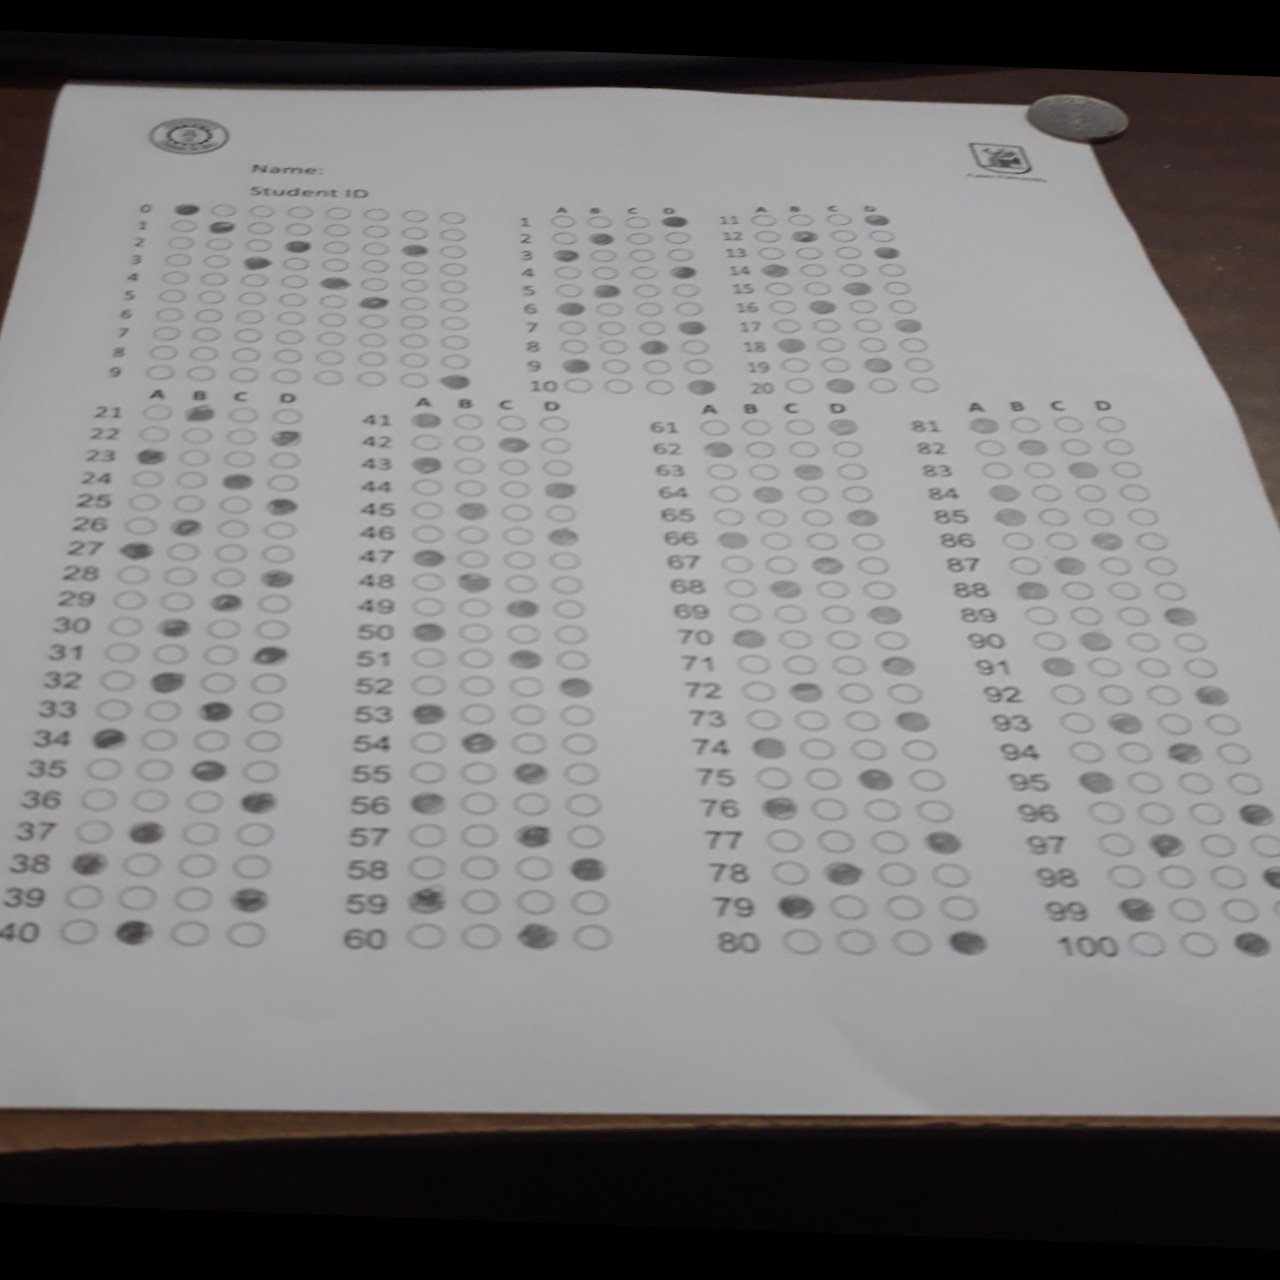not-c: (1166, 894, 1212, 925), (1126, 930, 1165, 959), (1180, 930, 1218, 959), (765, 826, 804, 855), (915, 797, 954, 825), (908, 765, 947, 794), (850, 734, 888, 762), (745, 702, 787, 728), (837, 927, 874, 955), (785, 927, 823, 955), (839, 893, 877, 921), (887, 892, 925, 920), (881, 860, 919, 888), (772, 857, 810, 885), (817, 826, 855, 855), (862, 794, 899, 822), (756, 763, 794, 791), (804, 764, 842, 792), (798, 733, 836, 761), (898, 736, 938, 762), (789, 706, 829, 731), (740, 678, 779, 703), (409, 822, 449, 847), (517, 856, 557, 881), (515, 888, 554, 914), (571, 888, 611, 914), (572, 922, 612, 948), (70, 883, 110, 908), (233, 855, 273, 880), (236, 822, 275, 847), (80, 787, 120, 812), (141, 726, 181, 751), (91, 694, 131, 720), (111, 561, 151, 587), (940, 896, 978, 922), (933, 862, 971, 888), (892, 930, 930, 956), (871, 828, 908, 855), (812, 796, 850, 823), (459, 823, 501, 847), (459, 922, 501, 947), (241, 728, 282, 753), (248, 670, 290, 695), (406, 922, 444, 948), (87, 756, 125, 782), (195, 727, 233, 753), (105, 612, 144, 638), (156, 588, 195, 614), (254, 590, 293, 615), (845, 707, 885, 731), (835, 680, 874, 704), (884, 680, 924, 704), (513, 791, 553, 816), (226, 922, 266, 947), (61, 919, 101, 944), (178, 855, 218, 879), (179, 818, 219, 843), (240, 758, 280, 783), (244, 699, 284, 723), (254, 618, 294, 642), (209, 564, 248, 588), (161, 561, 200, 586), (567, 823, 606, 847), (459, 856, 498, 880), (459, 888, 498, 913), (75, 819, 114, 844), (185, 790, 224, 815), (130, 789, 169, 813), (135, 757, 173, 782), (97, 667, 136, 692), (101, 639, 139, 663), (152, 642, 191, 667), (1187, 799, 1223, 826), (1211, 863, 1247, 888), (1110, 863, 1146, 888), (458, 790, 498, 813), (120, 885, 159, 908), (173, 887, 213, 911), (121, 853, 161, 877), (141, 697, 181, 721), (202, 642, 241, 666), (203, 617, 243, 640), (107, 586, 147, 610), (1201, 713, 1240, 736), (1089, 799, 1124, 825), (1135, 799, 1170, 825), (1200, 832, 1235, 858), (1225, 897, 1260, 922), (515, 731, 553, 755), (407, 855, 445, 878), (170, 921, 209, 945), (199, 669, 238, 693), (1160, 865, 1197, 890), (1216, 742, 1253, 765), (1128, 770, 1165, 794), (510, 702, 547, 726), (459, 702, 497, 726), (410, 760, 448, 783), (1098, 831, 1133, 856), (560, 733, 595, 757), (735, 653, 774, 675), (778, 628, 817, 651), (858, 578, 897, 600), (852, 553, 891, 576), (804, 529, 843, 551), (708, 505, 747, 527), (839, 482, 878, 504), (836, 461, 874, 483), (782, 416, 821, 438), (564, 794, 602, 816), (1118, 741, 1155, 764), (458, 760, 495, 783), (565, 762, 601, 785), (821, 602, 860, 624), (697, 416, 737, 437), (738, 440, 778, 461), (216, 517, 256, 538), (263, 471, 302, 492), (1226, 770, 1260, 795), (1177, 771, 1214, 794), (782, 652, 819, 674), (830, 654, 867, 676), (872, 628, 910, 651), (722, 552, 760, 574), (850, 529, 887, 551), (794, 482, 831, 504), (742, 416, 779, 438), (784, 438, 822, 461), (557, 703, 594, 726), (1156, 712, 1194, 733), (734, 602, 772, 624), (775, 602, 813, 624), (720, 574, 758, 595), (762, 554, 801, 576), (760, 530, 798, 551), (747, 461, 785, 482), (212, 542, 251, 563), (260, 543, 299, 564), (261, 520, 300, 542), (125, 492, 164, 513), (171, 492, 210, 513), (173, 470, 212, 491), (1067, 741, 1103, 763), (813, 578, 851, 599), (753, 505, 790, 526), (798, 506, 836, 527), (703, 482, 741, 503), (701, 459, 738, 481), (1251, 832, 1280, 859), (1009, 414, 1044, 436), (410, 731, 445, 754), (828, 440, 866, 459), (165, 542, 204, 561), (121, 516, 159, 536), (1109, 459, 1145, 481), (1057, 712, 1094, 733), (826, 629, 863, 651), (1051, 681, 1085, 703), (1000, 530, 1033, 552), (1060, 577, 1092, 599), (1035, 629, 1068, 652), (1117, 483, 1153, 503), (974, 438, 1008, 459), (1173, 632, 1207, 653), (493, 411, 527, 433), (498, 456, 532, 477), (454, 478, 488, 499), (501, 502, 535, 523), (546, 550, 580, 571), (1126, 508, 1162, 527), (1145, 556, 1180, 576), (1007, 554, 1040, 576), (1110, 580, 1143, 601), (1117, 605, 1150, 626), (1026, 605, 1058, 626), (1089, 656, 1122, 678), (450, 410, 483, 431), (411, 474, 444, 495), (457, 525, 490, 546), (411, 524, 444, 545), (551, 574, 584, 595), (553, 599, 586, 620), (413, 595, 445, 617), (458, 622, 491, 644), (505, 622, 538, 644), (411, 647, 444, 668), (181, 447, 213, 468), (224, 422, 257, 443), (270, 451, 302, 472), (1092, 414, 1129, 433), (1135, 531, 1169, 551), (981, 461, 1015, 481), (1044, 530, 1078, 550), (1126, 631, 1160, 651), (452, 433, 486, 452), (451, 455, 485, 475), (410, 501, 444, 520), (546, 504, 580, 524), (501, 525, 535, 545), (456, 599, 490, 619), (411, 674, 445, 694), (459, 675, 493, 695), (268, 406, 302, 425), (1099, 557, 1131, 578), (1071, 606, 1103, 627), (499, 479, 531, 501), (414, 572, 445, 593), (554, 622, 586, 644), (462, 649, 493, 670), (138, 422, 170, 443), (142, 399, 173, 420), (224, 448, 256, 469), (225, 401, 257, 422), (1152, 583, 1187, 601), (1022, 461, 1057, 479), (1036, 506, 1071, 525), (1183, 658, 1216, 678), (1098, 685, 1131, 704), (1146, 685, 1179, 704), (538, 413, 571, 433), (540, 436, 573, 456), (410, 433, 443, 452), (542, 456, 574, 476), (502, 549, 535, 568), (457, 549, 490, 568), (505, 572, 538, 592), (556, 651, 588, 670), (511, 676, 544, 696), (182, 425, 215, 445), (220, 493, 251, 515), (1058, 437, 1092, 456), (1073, 484, 1107, 503), (1083, 508, 1117, 526), (1141, 658, 1172, 678), (1029, 484, 1064, 502), (1053, 414, 1085, 433), (132, 468, 163, 488), (1102, 437, 1136, 455), (358, 312, 390, 329), (646, 377, 675, 396), (683, 358, 712, 376), (767, 297, 795, 315), (285, 204, 316, 220), (358, 257, 389, 273), (156, 304, 185, 321), (161, 268, 190, 286), (169, 215, 198, 232), (190, 342, 219, 360), (191, 325, 220, 342), (209, 200, 238, 218), (442, 352, 471, 369), (440, 297, 469, 314), (440, 241, 469, 259), (437, 207, 467, 225), (561, 377, 591, 395), (764, 279, 794, 297), (358, 349, 388, 366), (361, 275, 392, 292), (359, 222, 389, 238), (400, 207, 430, 224), (782, 356, 812, 373), (440, 278, 468, 295), (644, 358, 672, 375), (785, 377, 813, 395), (760, 245, 788, 263), (756, 227, 784, 245), (148, 345, 177, 361), (157, 286, 186, 302), (163, 250, 192, 266), (188, 362, 217, 379), (193, 307, 223, 324), (196, 287, 225, 304), (200, 252, 230, 268), (206, 233, 236, 250), (239, 290, 268, 306), (231, 366, 260, 382), (280, 272, 309, 288), (400, 350, 429, 367), (441, 334, 470, 350), (441, 315, 470, 332), (788, 211, 817, 227), (835, 244, 864, 260), (272, 368, 302, 383), (275, 309, 306, 325), (358, 331, 388, 346), (361, 240, 392, 256), (400, 313, 430, 328), (858, 336, 888, 352), (147, 363, 175, 380), (154, 326, 182, 342), (166, 233, 195, 250), (200, 270, 229, 286), (274, 346, 302, 362), (274, 327, 302, 343), (438, 225, 467, 241), (665, 245, 693, 261), (629, 264, 658, 280), (634, 300, 662, 316), (682, 338, 710, 354), (607, 358, 635, 374), (602, 377, 631, 394), (771, 316, 799, 333), (888, 299, 917, 315), (234, 328, 264, 343), (233, 348, 263, 363), (284, 256, 313, 271), (284, 219, 313, 234), (326, 205, 355, 220), (362, 206, 392, 222), (324, 222, 353, 237), (324, 240, 353, 256), (321, 256, 350, 271), (321, 293, 350, 308), (403, 225, 433, 240), (401, 260, 430, 275), (401, 372, 430, 387), (750, 212, 779, 227), (803, 281, 832, 297), (821, 358, 850, 373), (870, 377, 899, 393), (904, 358, 933, 373), (899, 338, 928, 353), (850, 298, 879, 313), (883, 280, 912, 295), (877, 263, 906, 278), (839, 263, 869, 278), (830, 227, 859, 243), (593, 265, 620, 281), (557, 319, 584, 335), (639, 319, 666, 335), (855, 316, 881, 333), (324, 314, 352, 329), (401, 295, 431, 309), (399, 333, 427, 348), (624, 213, 652, 229), (622, 230, 651, 245), (554, 229, 583, 244), (590, 247, 618, 263), (628, 246, 656, 261), (554, 265, 583, 280), (801, 263, 829, 278), (867, 227, 896, 243), (824, 212, 852, 227), (236, 309, 265, 324), (279, 292, 308, 306), (316, 331, 346, 345), (318, 350, 347, 365), (316, 372, 346, 386), (359, 372, 388, 386), (400, 278, 429, 292), (816, 338, 845, 352), (913, 377, 942, 392), (248, 203, 275, 218), (248, 219, 275, 234), (245, 238, 272, 253), (241, 273, 268, 288), (557, 282, 584, 298), (632, 281, 659, 297), (673, 281, 700, 297), (674, 300, 701, 315), (595, 301, 622, 316), (599, 319, 626, 334), (601, 340, 628, 355), (794, 244, 821, 259), (813, 316, 840, 332), (547, 213, 576, 227), (584, 215, 612, 229), (663, 230, 692, 244), (751, 212, 779, 226), (440, 261, 467, 275), (564, 338, 591, 352), (1276, 898, 1280, 924)
taken-c: (406, 884, 445, 914), (510, 821, 552, 847), (457, 730, 501, 756), (509, 761, 551, 787), (406, 700, 448, 726), (1077, 767, 1117, 794), (564, 855, 604, 881), (1148, 832, 1189, 858), (1119, 896, 1158, 922), (1037, 653, 1077, 679), (1234, 931, 1273, 956), (1078, 629, 1117, 655), (776, 892, 815, 918), (517, 922, 556, 948), (407, 790, 445, 816), (503, 646, 543, 670), (407, 546, 447, 571), (1105, 709, 1144, 734), (504, 598, 543, 622), (450, 498, 489, 523), (947, 931, 983, 956), (115, 919, 151, 945), (556, 674, 595, 697), (451, 568, 491, 592), (760, 795, 797, 819), (1012, 578, 1048, 602), (988, 481, 1024, 505), (150, 670, 186, 695), (1051, 553, 1089, 577), (922, 831, 960, 855), (823, 862, 860, 885), (788, 681, 826, 703), (856, 768, 894, 790), (408, 621, 447, 644), (540, 526, 579, 549), (197, 697, 233, 721), (239, 791, 275, 815), (127, 821, 163, 844), (91, 726, 125, 750), (1162, 604, 1199, 626), (1085, 527, 1121, 551), (990, 504, 1026, 527), (252, 642, 287, 666), (1238, 802, 1274, 824), (893, 712, 930, 734), (751, 737, 788, 760), (155, 615, 191, 638), (191, 757, 227, 779), (230, 887, 266, 910), (1167, 741, 1201, 764), (72, 851, 105, 874), (1064, 458, 1099, 481), (264, 496, 299, 518), (879, 653, 912, 676), (1194, 682, 1228, 704), (869, 602, 900, 626), (134, 445, 169, 467), (219, 471, 254, 492), (824, 414, 857, 436), (493, 433, 527, 454), (120, 540, 154, 561), (258, 567, 292, 588), (211, 591, 245, 612), (701, 437, 733, 459), (795, 461, 826, 483), (847, 508, 879, 530), (719, 529, 750, 551), (1015, 436, 1048, 457), (754, 484, 787, 505), (733, 627, 765, 648), (411, 452, 444, 474), (543, 481, 577, 501), (409, 409, 443, 429), (184, 403, 218, 423), (169, 516, 203, 536), (969, 414, 1001, 435), (810, 554, 842, 576), (770, 577, 802, 598), (270, 427, 302, 447), (400, 241, 433, 259), (440, 374, 472, 390), (551, 299, 584, 315), (358, 293, 389, 309), (586, 230, 617, 246), (557, 356, 588, 372), (863, 210, 892, 226), (590, 282, 620, 298), (639, 339, 669, 354), (686, 379, 714, 395), (778, 336, 806, 353), (809, 299, 837, 315), (844, 280, 872, 297), (894, 316, 922, 333), (668, 264, 697, 279), (871, 243, 900, 258), (828, 377, 855, 394), (550, 248, 580, 263), (662, 213, 690, 229), (762, 263, 790, 278), (171, 202, 200, 216), (321, 275, 350, 290), (676, 321, 706, 335), (791, 227, 821, 241), (207, 220, 236, 234), (863, 358, 891, 372), (1262, 866, 1280, 888), (244, 256, 273, 268), (282, 239, 311, 252)
